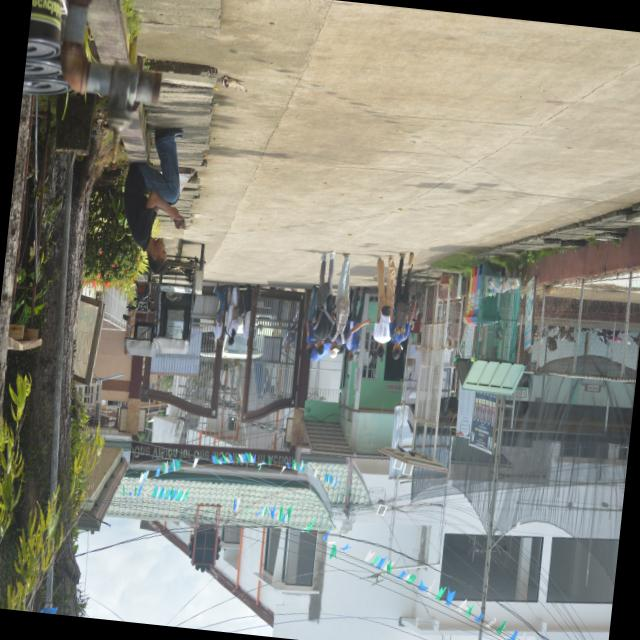person: (124, 128, 185, 273), (330, 253, 369, 357), (390, 252, 414, 358), (313, 250, 335, 354), (373, 255, 395, 356), (213, 284, 227, 347), (306, 284, 318, 352), (226, 283, 239, 344), (349, 286, 367, 327), (243, 284, 252, 339)
